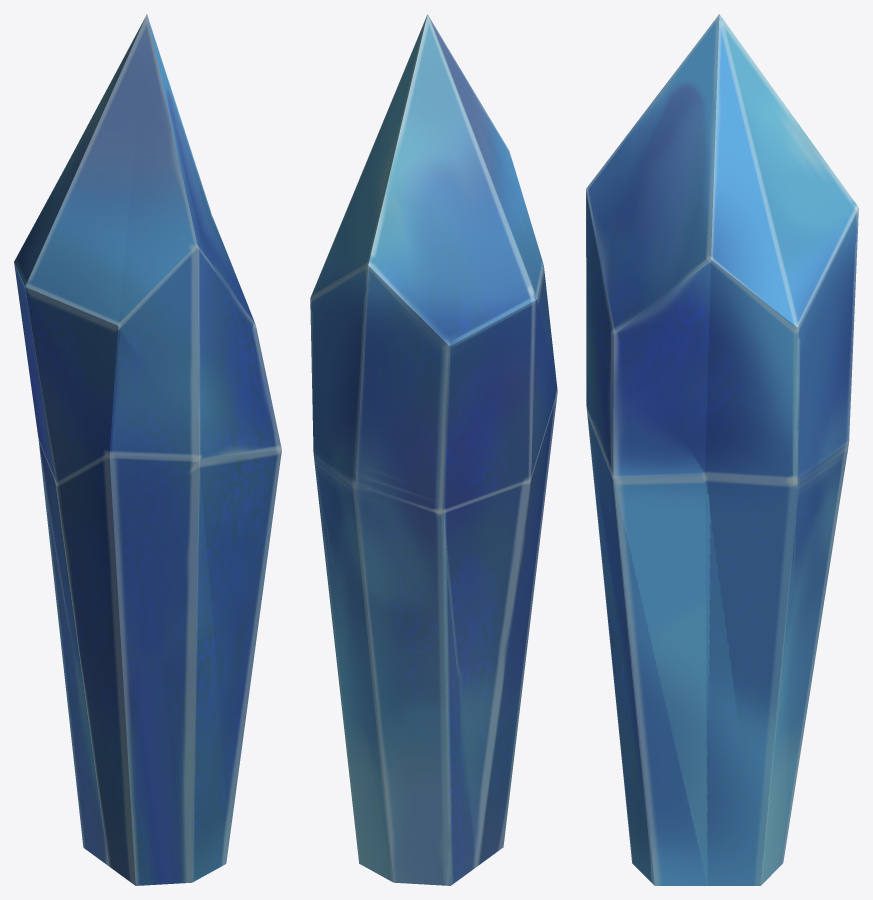
The model's file is cristal1.fbx.
The picture shows the model from 3 angles, left to right: view 1: azimuth 30°, elevation 25°; view 2: azimuth 150°, elevation 25°; view 3: azimuth 270°, elevation 25°; orthographic projection.
Visible parts, largest first — view 1: Cube; view 2: Cube; view 3: Cube.
Part boxes in pixels (x1,y1,x2,y2): Cube: [14, 14, 281, 885]; Cube: [310, 14, 557, 885]; Cube: [586, 14, 858, 885].
Bounding box in the file's own units: 140 × 567 × 165.
